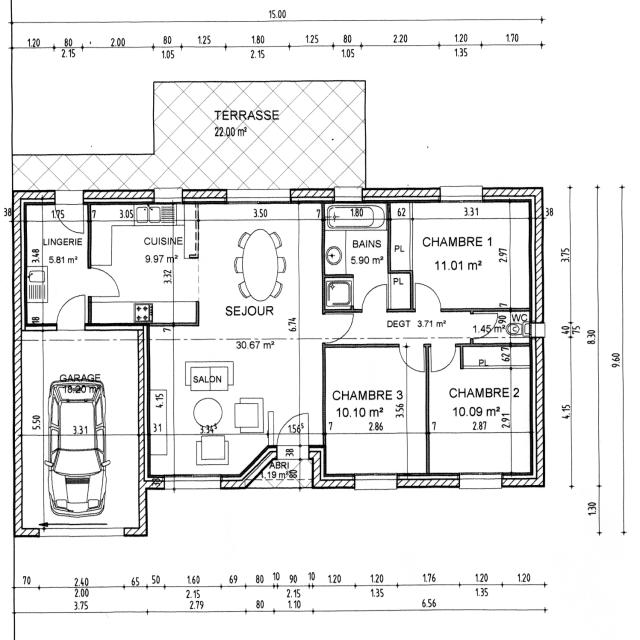door: (86, 263, 124, 300), (55, 291, 88, 330), (324, 309, 355, 342), (412, 279, 443, 310), (428, 342, 458, 374), (360, 281, 389, 311), (399, 342, 427, 372), (57, 208, 87, 236), (276, 412, 303, 438)
window: (166, 475, 223, 493), (222, 192, 294, 206), (455, 473, 505, 491), (224, 188, 291, 201), (352, 474, 400, 492), (438, 184, 482, 200), (39, 528, 123, 534), (53, 190, 83, 206), (154, 187, 183, 201), (334, 188, 363, 200)
zone: (90, 204, 322, 332), (150, 338, 317, 486), (19, 332, 142, 530), (392, 205, 532, 308), (428, 347, 535, 476), (324, 345, 426, 477), (24, 202, 90, 326), (12, 153, 150, 190), (323, 202, 390, 276), (470, 309, 528, 343), (323, 276, 353, 312), (387, 270, 413, 310)
